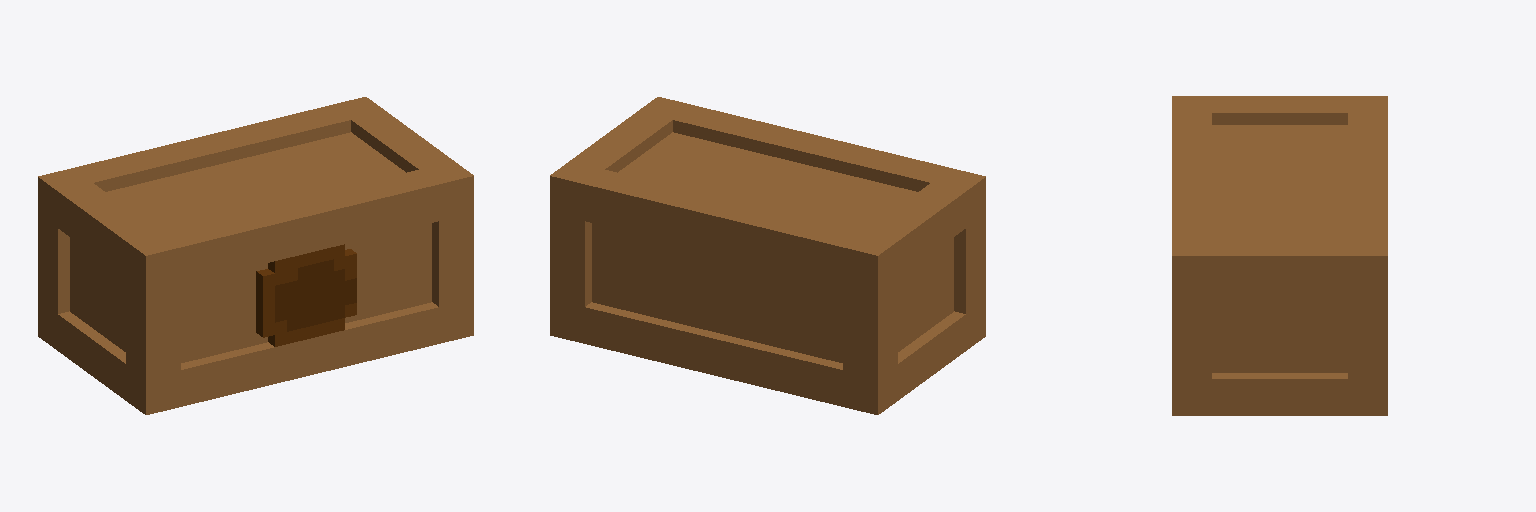
3 renders of one model, left to right at view 1: azimuth 30°, elevation 25°; view 2: azimuth 150°, elevation 25°; view 3: azimuth 270°, elevation 25°, orthographic.
Visible parts, largest first — view 1: object 1; view 2: object 1; view 3: object 1.
Boxes of the visible parts, x1,y1,x2,y2 form: object 1: [38, 97, 473, 414]; object 1: [550, 97, 985, 414]; object 1: [1172, 96, 1387, 415].
Size of the model in its own units: 2.8 by 1.3 by 1.6.
Materials: 1 (1 with a texture image).